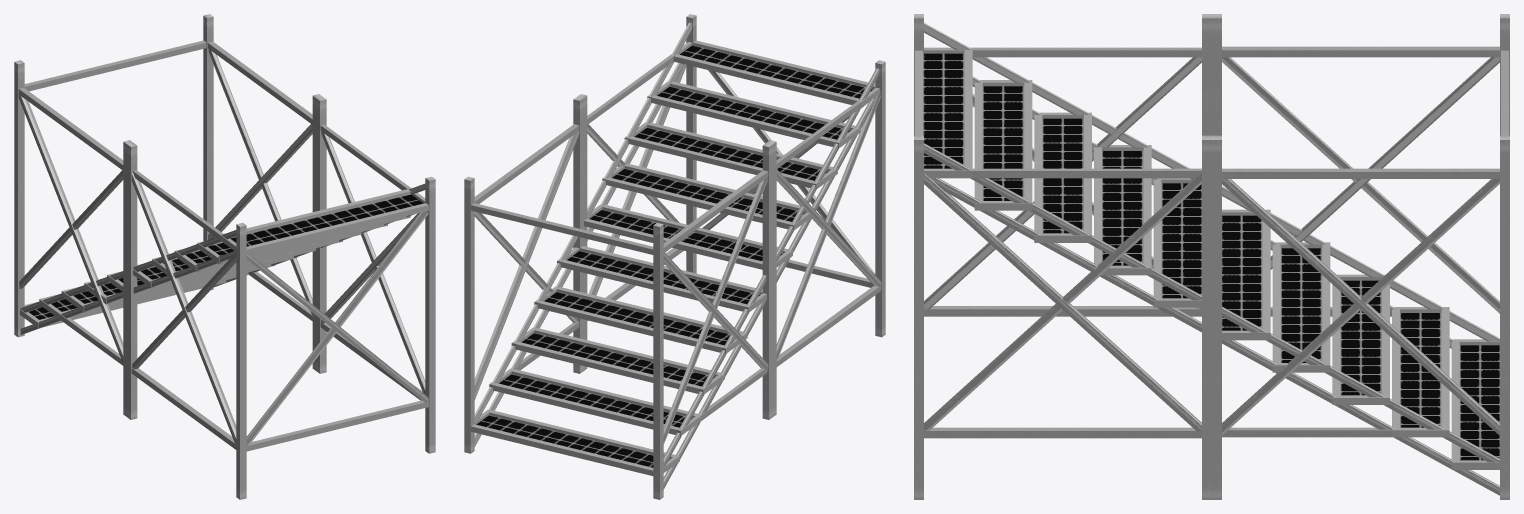
File: scaffolding_stair.fbx
3 renders of one model, left to right at view 1: azimuth 30°, elevation 25°; view 2: azimuth 150°, elevation 25°; view 3: azimuth 270°, elevation 25°, orthographic. The views are drawn at different scales.
Visible parts, largest first — view 1: Cylinder.001, Cube.003, stair, Cube.002, Cube.004; view 2: stair, Cylinder.001, Cube.003, Cube.002, Cube.004; view 3: stair, Cube.003, Cube.002, Cylinder.001, Cube.004.
Part boxes in pixels (x1,y1,x2,y2): Cylinder.001: [14, 14, 435, 499]; Cube.003: [18, 49, 428, 445]; stair: [20, 188, 428, 328]; Cube.002: [18, 40, 428, 451]; Cube.004: [20, 183, 425, 334]; stair: [471, 40, 879, 475]; Cylinder.001: [464, 14, 885, 499]; Cube.003: [474, 64, 881, 444]; Cube.002: [471, 55, 881, 419]; Cube.004: [474, 22, 879, 488]; stair: [915, 47, 1499, 469]; Cube.003: [924, 57, 1499, 435]; Cube.002: [924, 46, 1508, 438]; Cylinder.001: [914, 14, 1509, 499]; Cube.004: [924, 23, 1499, 495].
Size of what is drawn, in the model's own units: 300 by 400 by 600.
